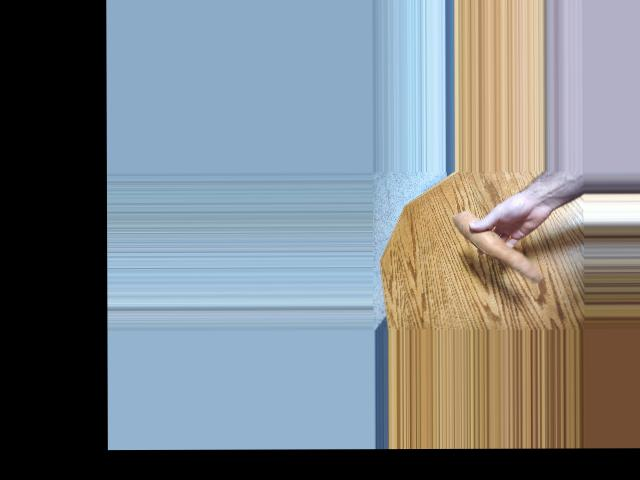sweet_potato: (460, 209, 541, 280)
